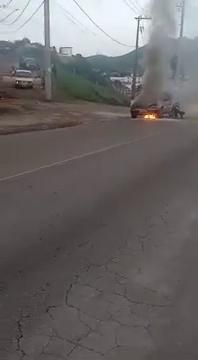fire: (141, 113, 166, 120)
smoke: (145, 44, 171, 103)
